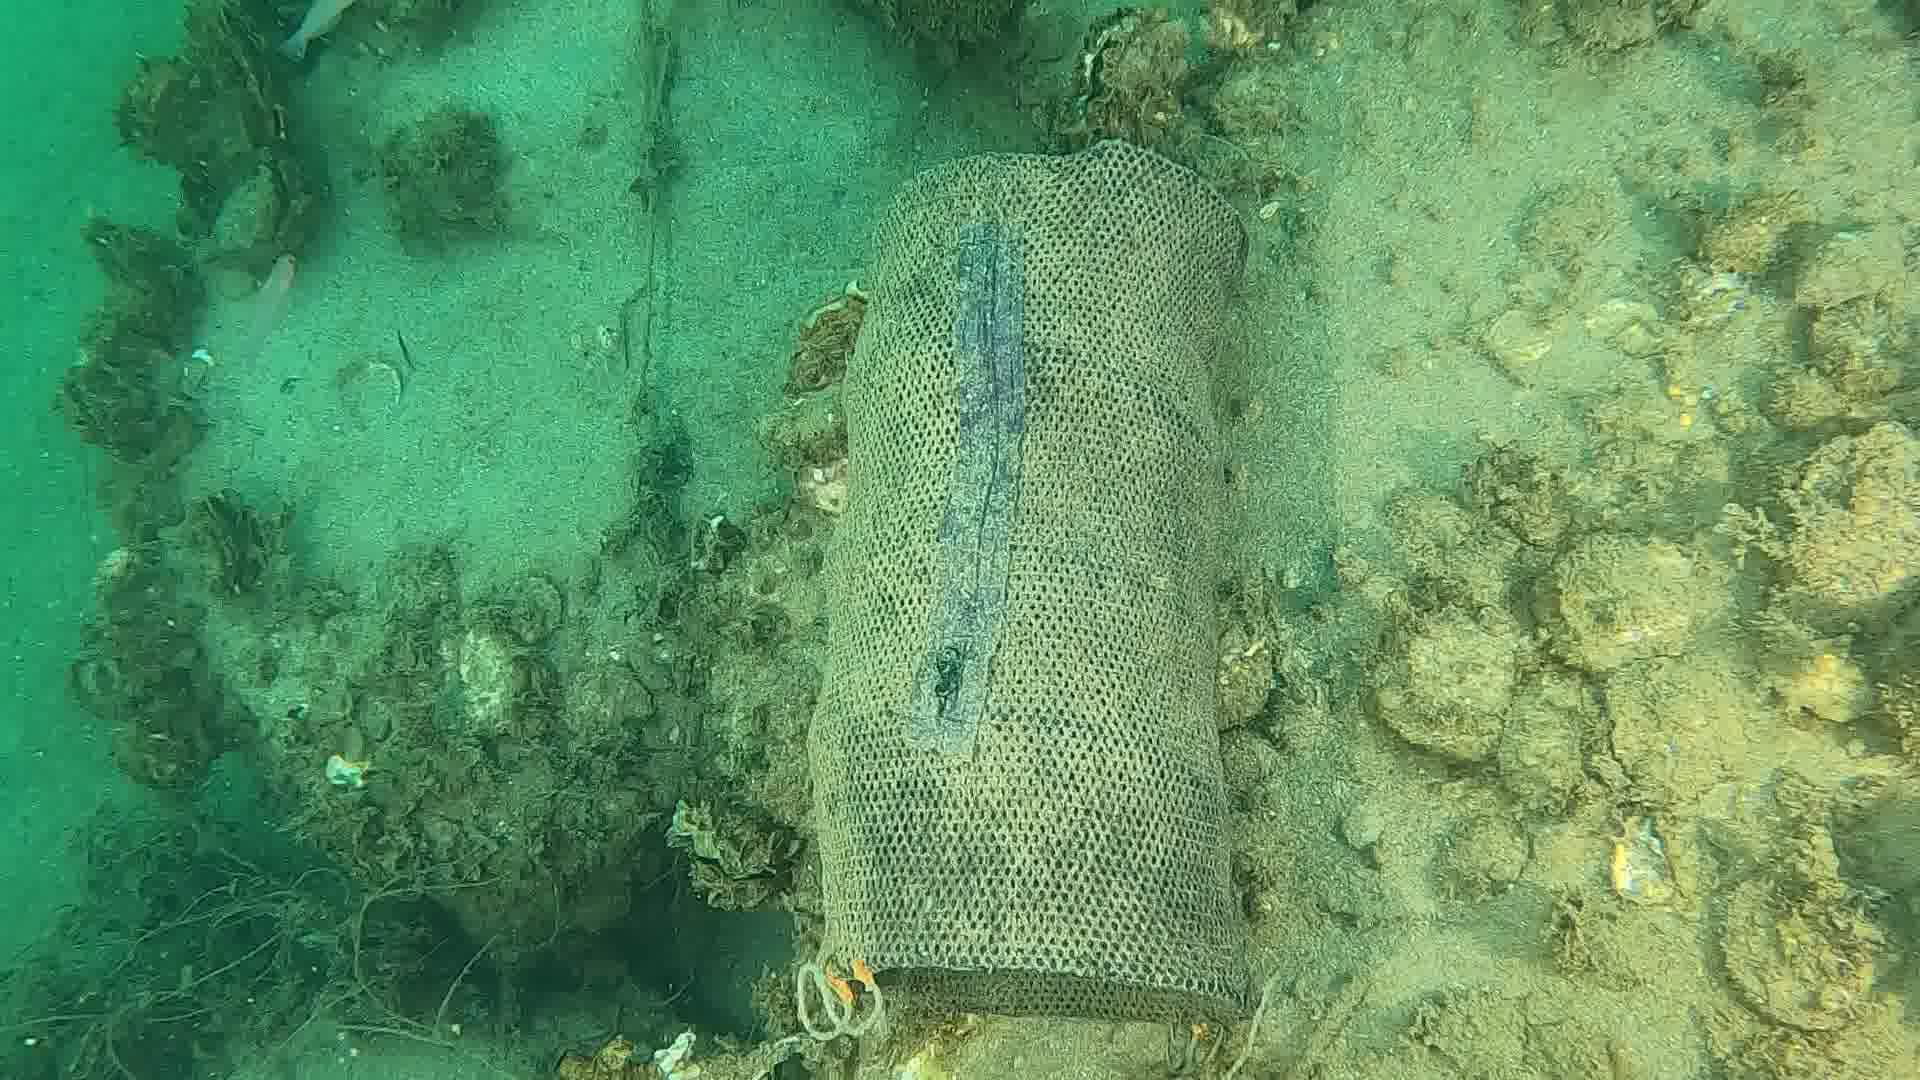spring fish trap: (804, 136, 1254, 1025)
